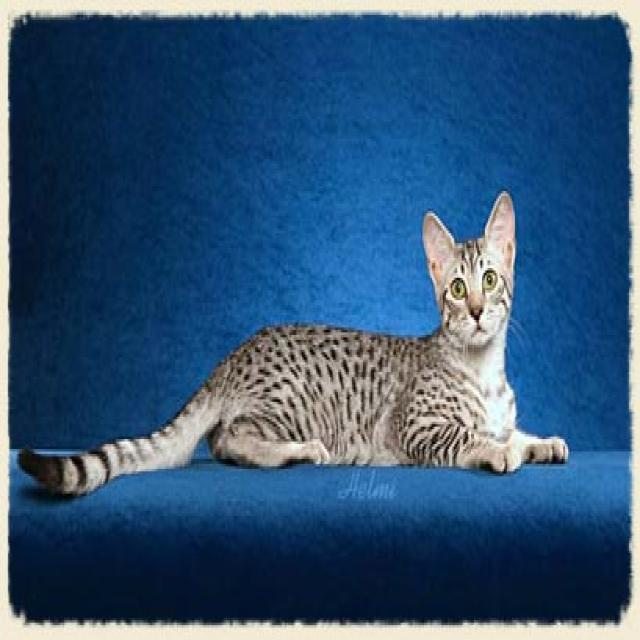Egyptian_Mau: (421, 186, 513, 345)
